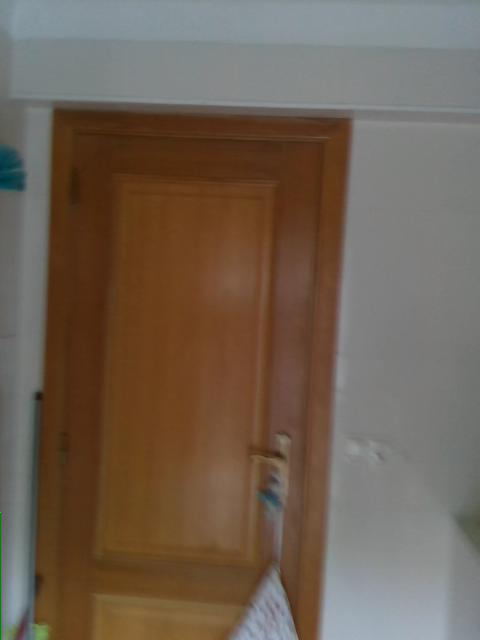door: (32, 103, 356, 639)
